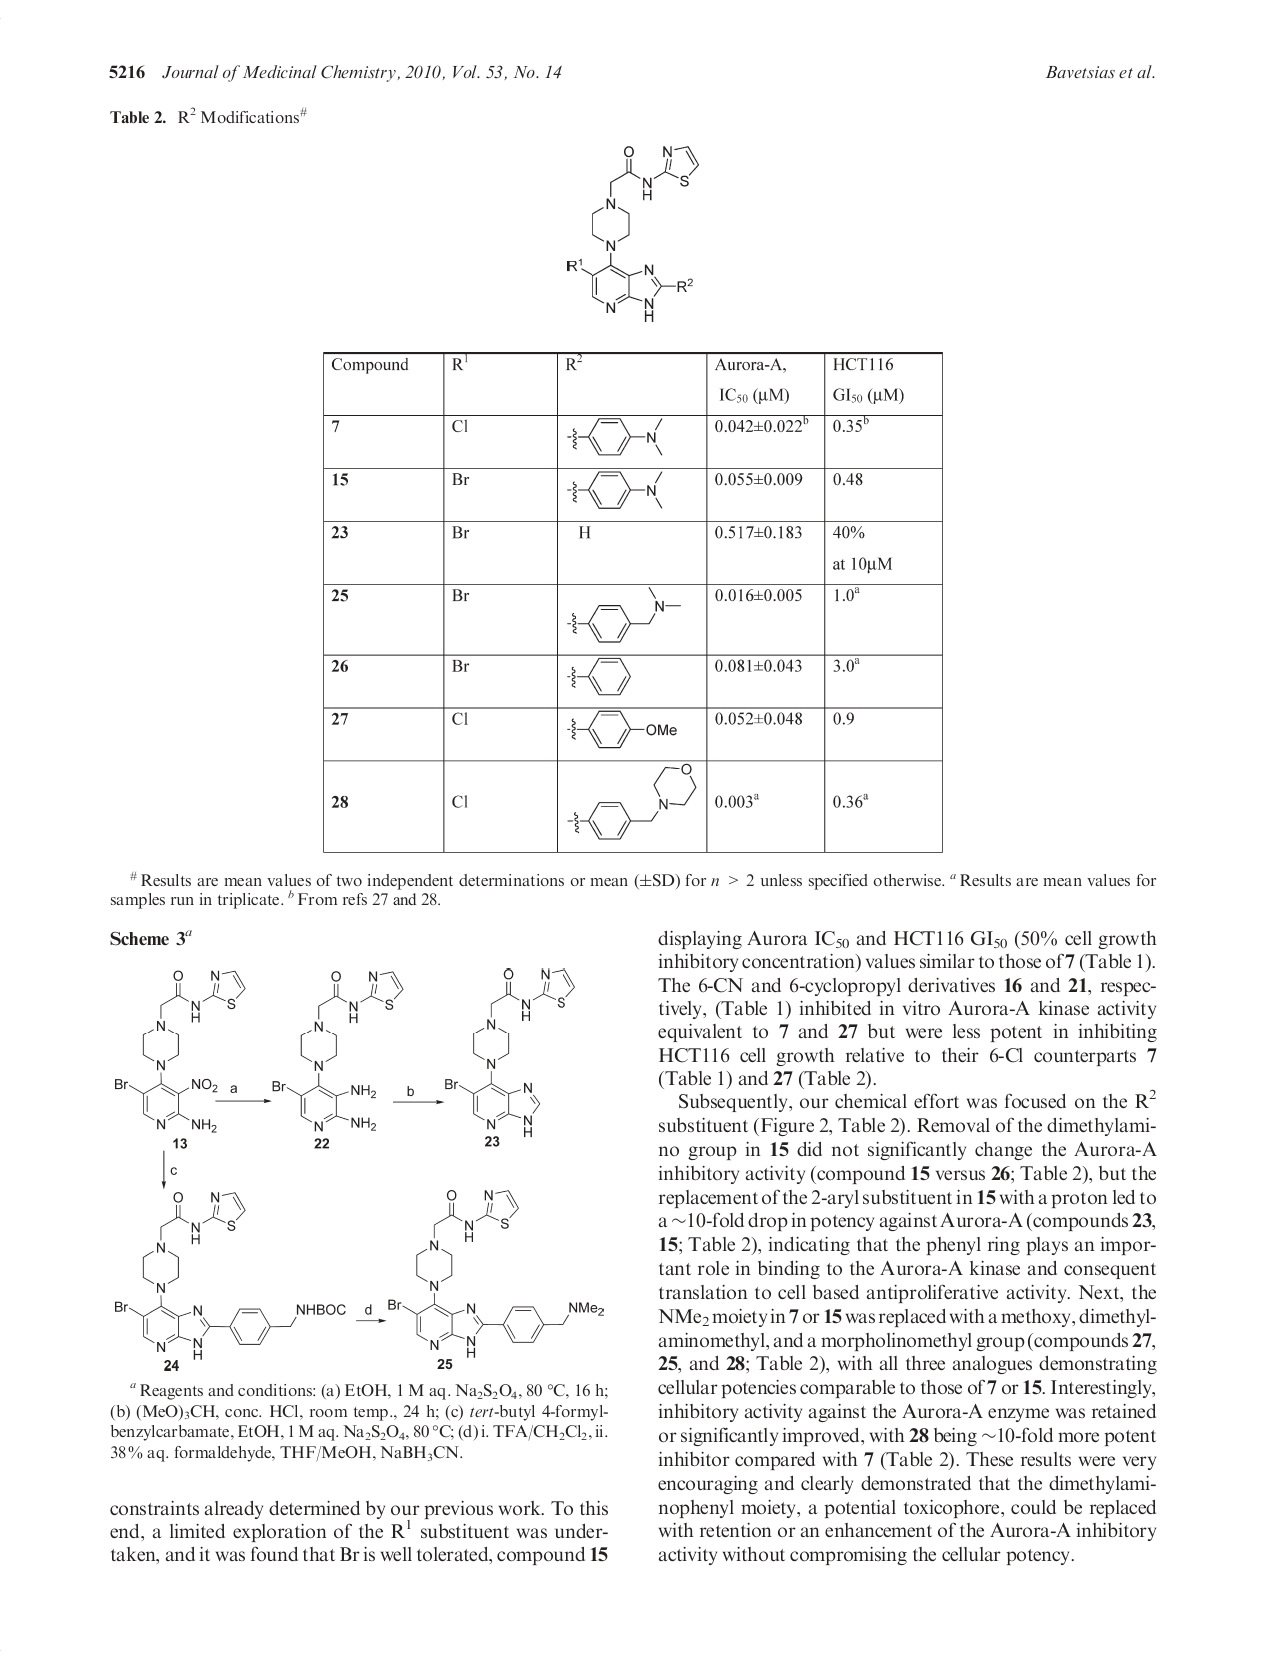exist_molecular: (113, 1189, 346, 1360), (387, 1188, 608, 1359), (565, 141, 701, 323), (443, 965, 577, 1136), (113, 968, 247, 1134), (273, 969, 404, 1133), (568, 763, 699, 842), (567, 585, 681, 646), (565, 416, 668, 460), (567, 710, 680, 749), (567, 471, 670, 511), (567, 657, 633, 697)
